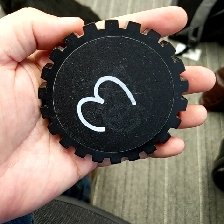gear: (36, 18, 190, 166)
